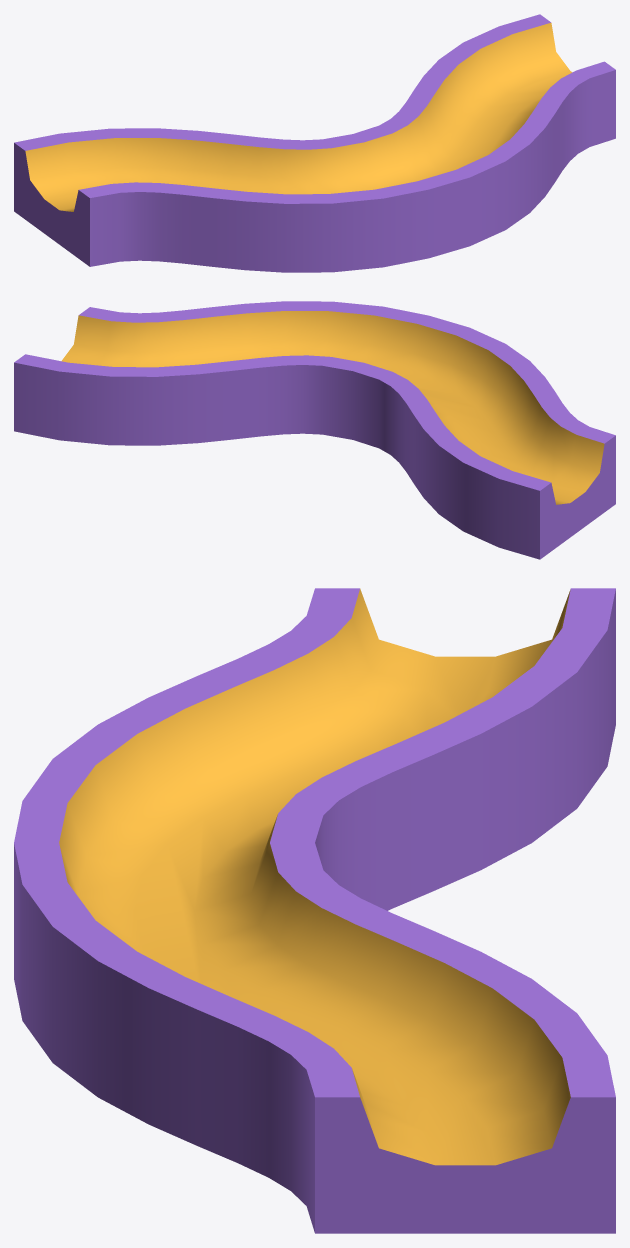
Rendered from wave-c-col.glb.
3 views of the same model, one above another, from view 1: azimuth 30°, elevation 25°; view 2: azimuth 150°, elevation 25°; view 3: azimuth 270°, elevation 25° (orthographic). The views are drawn at different scales.
Parts seen in each view (by area): view 1: wave-c-col; view 2: wave-c-col; view 3: wave-c-col.
Part boxes in pixels (bbox=[...]): wave-c-col: bbox=[14, 14, 615, 272]; wave-c-col: bbox=[14, 301, 615, 559]; wave-c-col: bbox=[14, 588, 615, 1233].
Size of the model in its own units: 4 by 0.5 by 2.
Materials: 1 (1 with a texture image).
